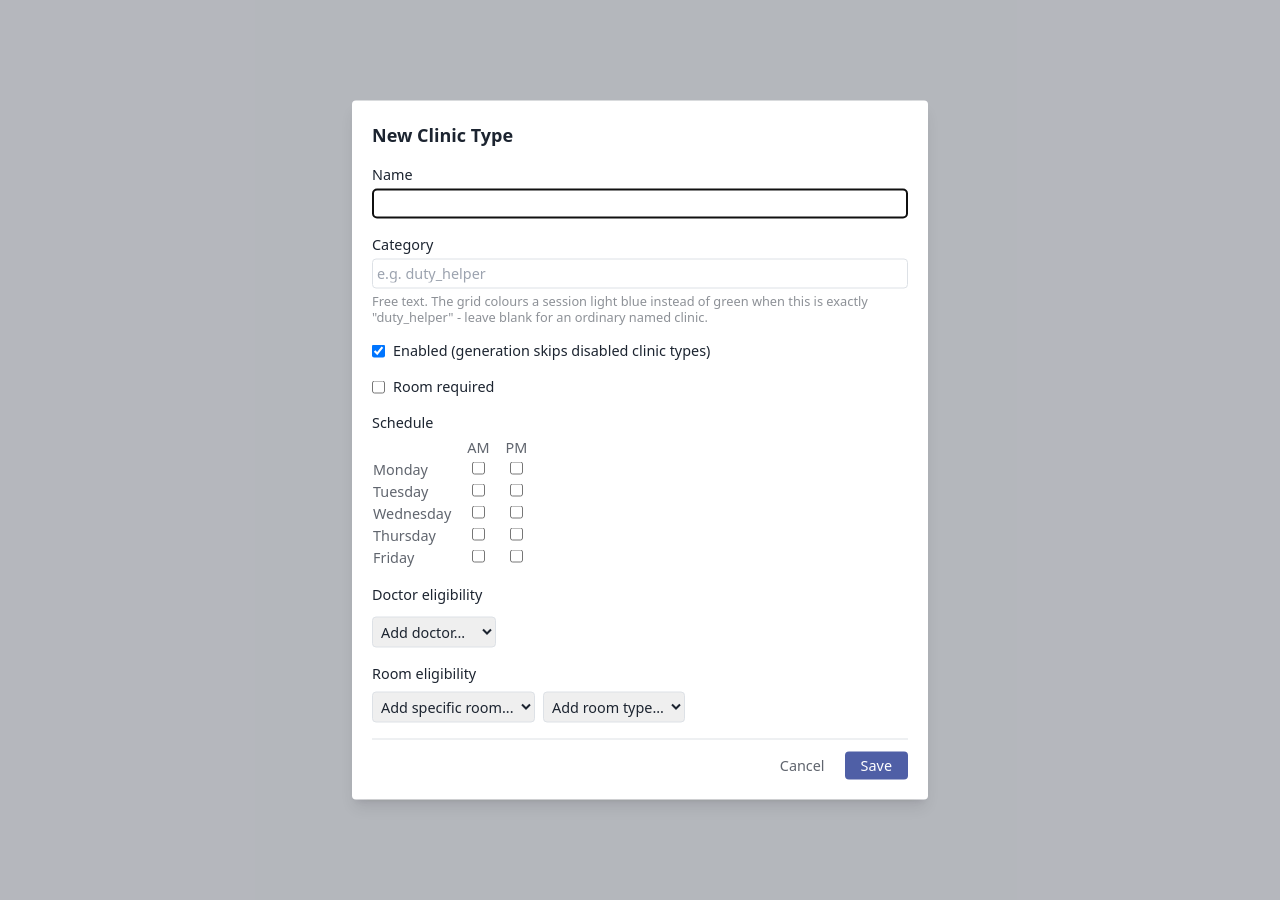
Test: ClinicTypeFormDialog - create mode › 'All doctors' adds every not-yet-added doctor at once, each at priority 1000
Select "All doctors" in the dropdown named "Add doctor" at (434, 632), box [372,616,496,648]
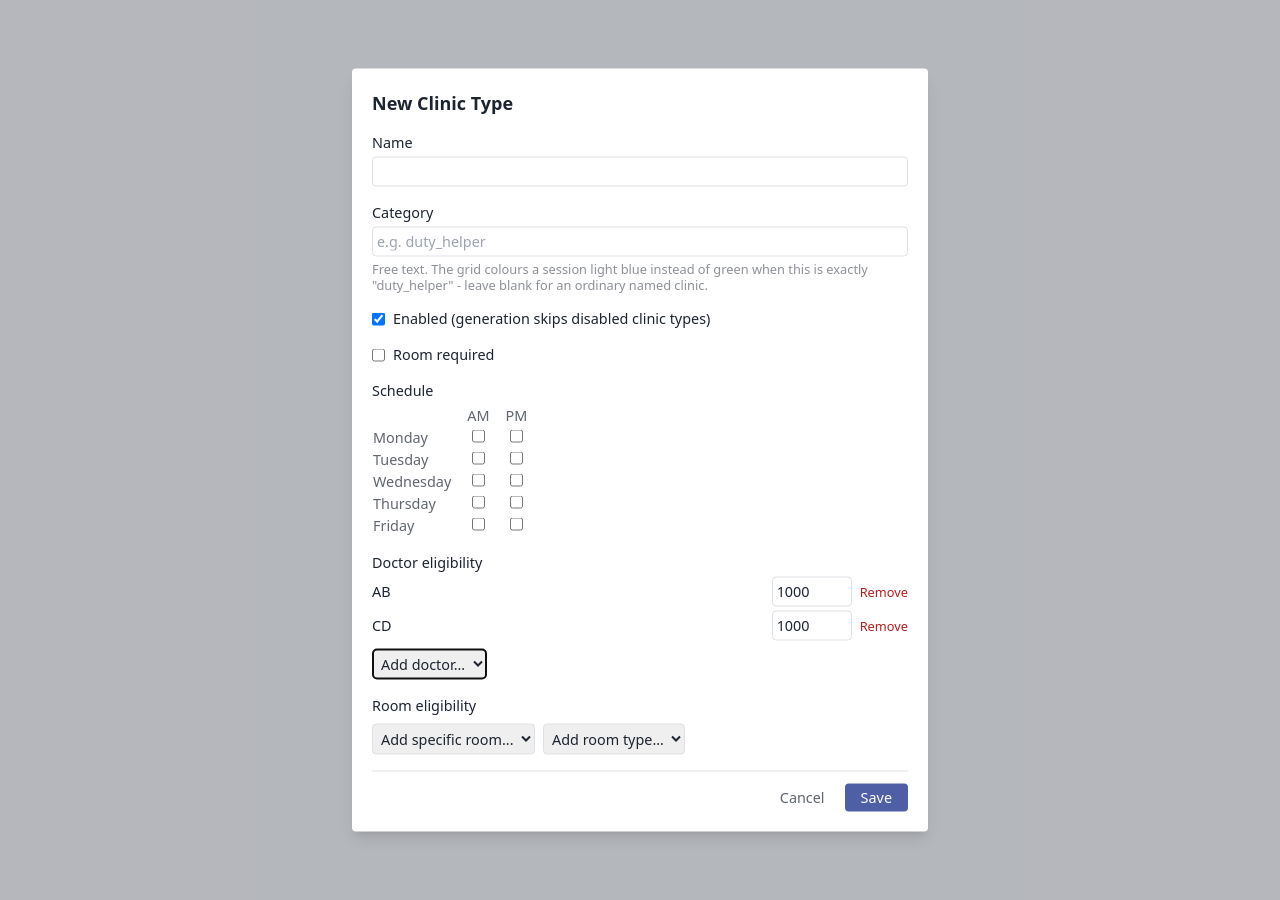
Now the text "AB" is shown, box [372,582,391,600]
Now the text "CD" is shown, box [372,616,392,634]
Now the number field named "Priority for AB" holds "1000", box [772,576,852,606]
